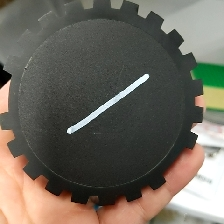gear: (1, 1, 204, 207)
missing: (148, 130, 199, 193), (1, 53, 23, 132)
